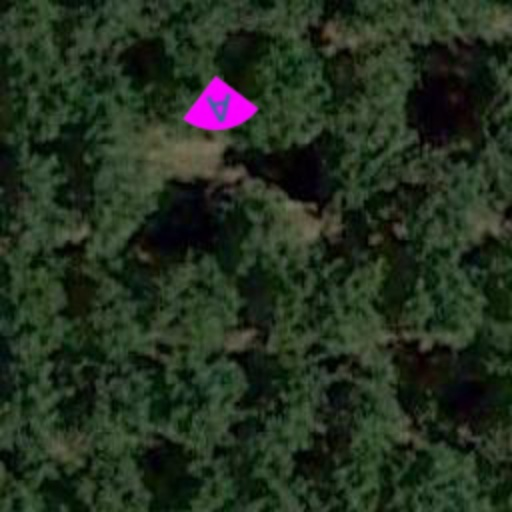quarter_circle: (178, 66, 262, 150)
